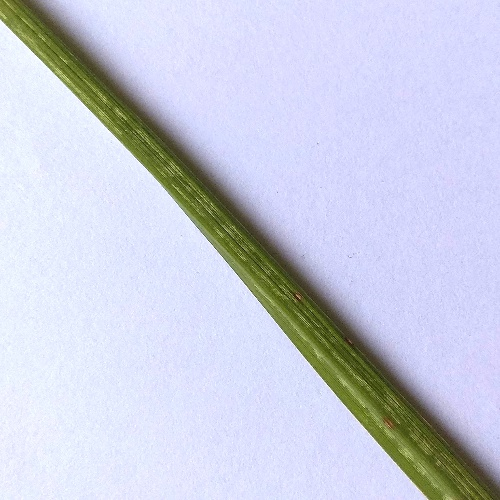Busuk Leher: (378, 408, 405, 436), (290, 284, 307, 304), (342, 334, 358, 352)
